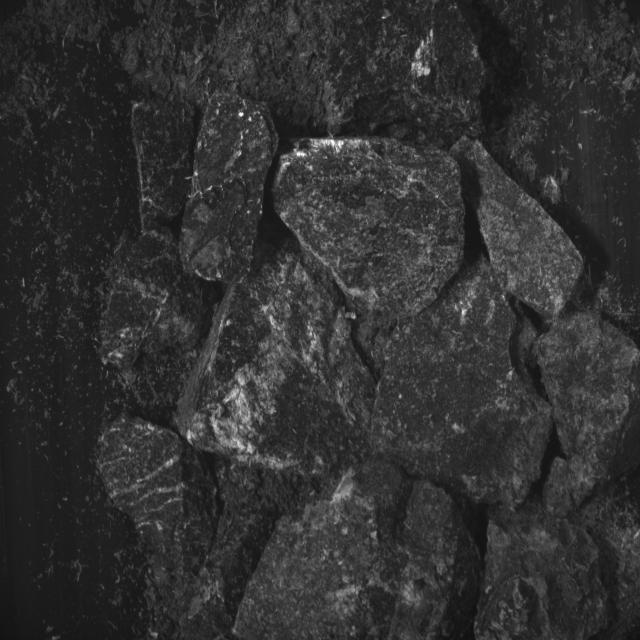Stones: (116, 1, 485, 148), (177, 249, 375, 476), (372, 260, 552, 507), (235, 461, 481, 640), (274, 139, 465, 319), (475, 469, 640, 640), (451, 139, 584, 321), (99, 417, 217, 609), (101, 232, 219, 423), (536, 313, 640, 506), (181, 94, 279, 284), (181, 178, 262, 283), (132, 102, 195, 232)
